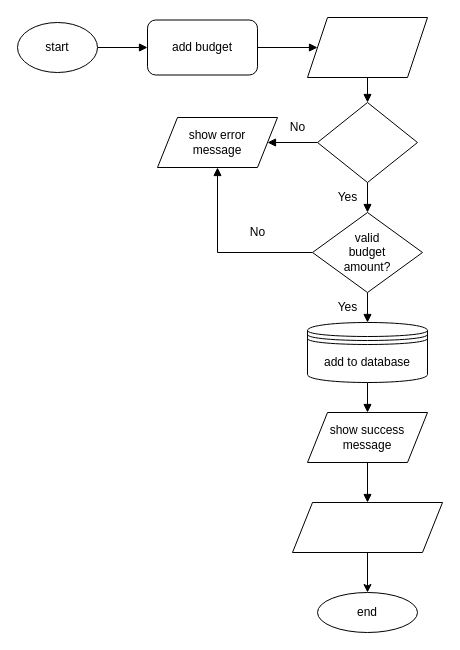
The diagram is 460 pixels wide and 650 high, and some of its shapes have lost their labels. The centre of each missing label's shape, as x and y in pixels:
read type of transaction and budget target: the point at 367,47
return to budget and savings page: the point at 367,527
valid type of transaction?: the point at 367,142
